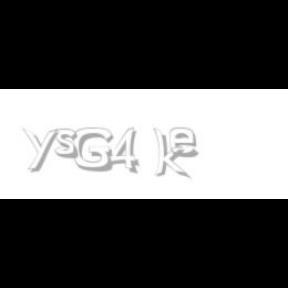4: (109, 128, 140, 174)
G: (73, 128, 113, 172)
e: (170, 128, 202, 158)
k: (153, 128, 191, 180)
s: (55, 128, 83, 160)
y: (22, 128, 62, 172)
